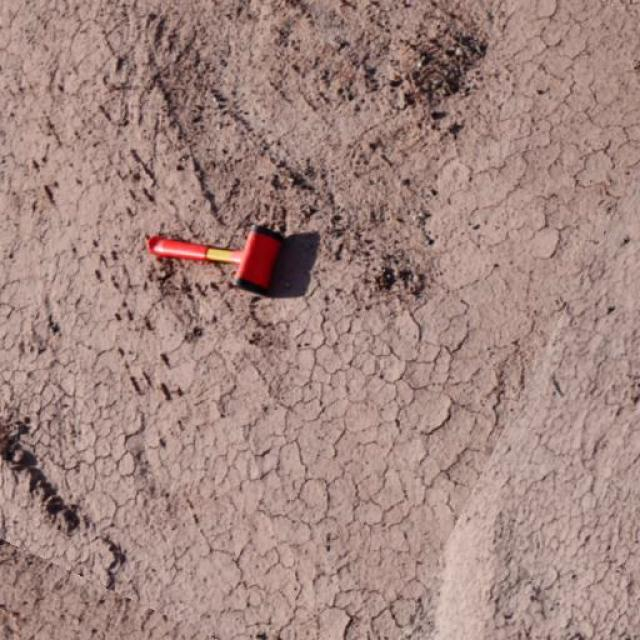mallet: (145, 222, 284, 292)
